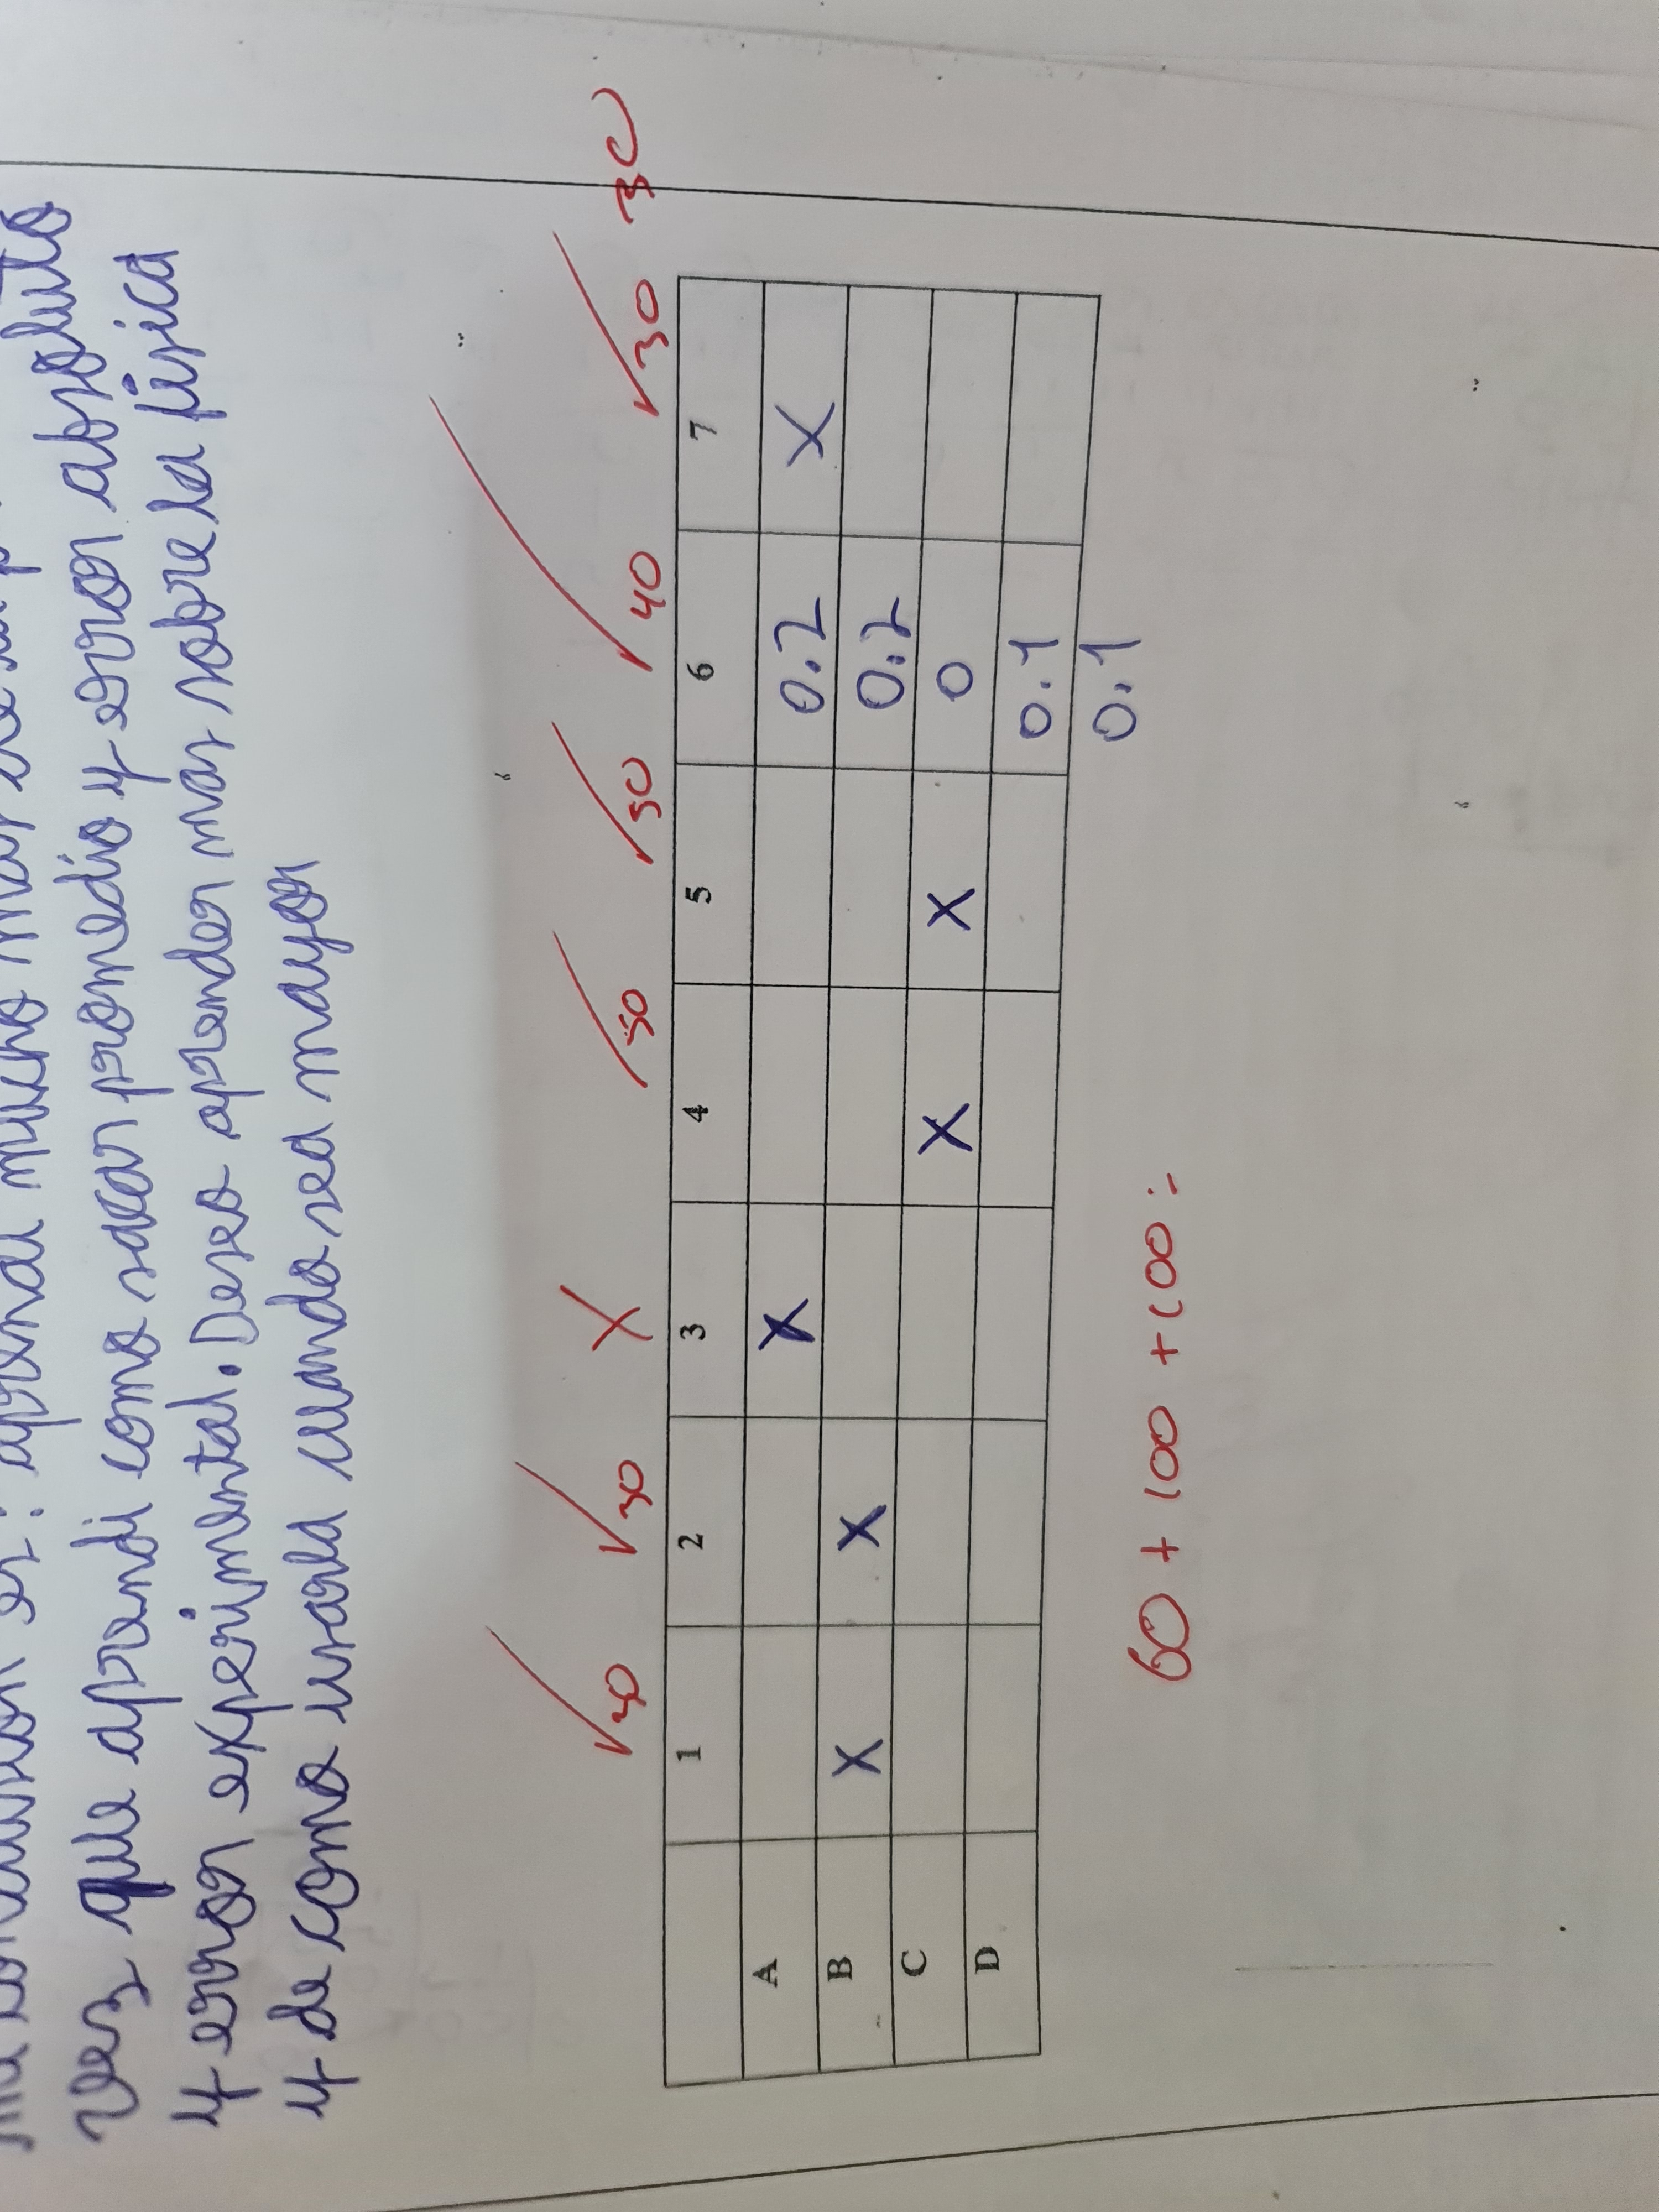column: (645, 1817, 1066, 2101), (647, 749, 1093, 1003), (659, 970, 1079, 1216), (659, 1609, 1054, 1869), (655, 1397, 1060, 1642), (645, 1197, 1070, 1430)
